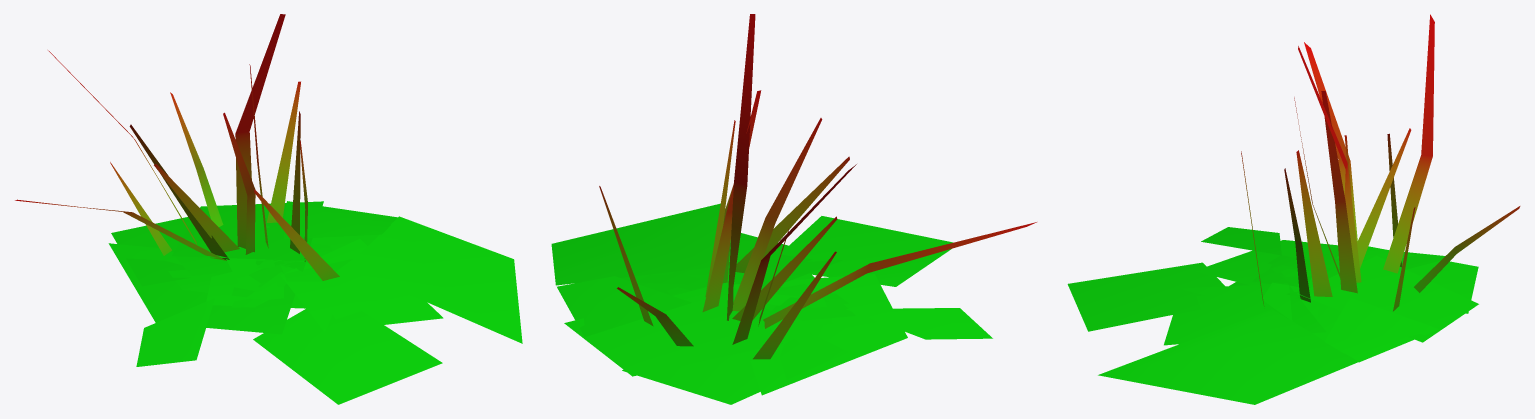
The model's file is Wild Grass_LOD3_Var12_vczndjqja.fbx.
3 renders of one model, left to right at view 1: azimuth 30°, elevation 25°; view 2: azimuth 150°, elevation 25°; view 3: azimuth 270°, elevation 25°, orthographic. The views are drawn at different scales.
Parts seen in each view (by area): view 1: _ori4_Var12_LOD3; view 2: _ori4_Var12_LOD3; view 3: _ori4_Var12_LOD3.
Boxes of the visible parts, x1=… form: _ori4_Var12_LOD3: x1=15, y1=14, x2=522, y2=404; _ori4_Var12_LOD3: x1=551, y1=14, x2=1036, y2=404; _ori4_Var12_LOD3: x1=1067, y1=14, x2=1520, y2=404.
Size of the model in its own units: 55.01 by 31.66 by 48.47.
